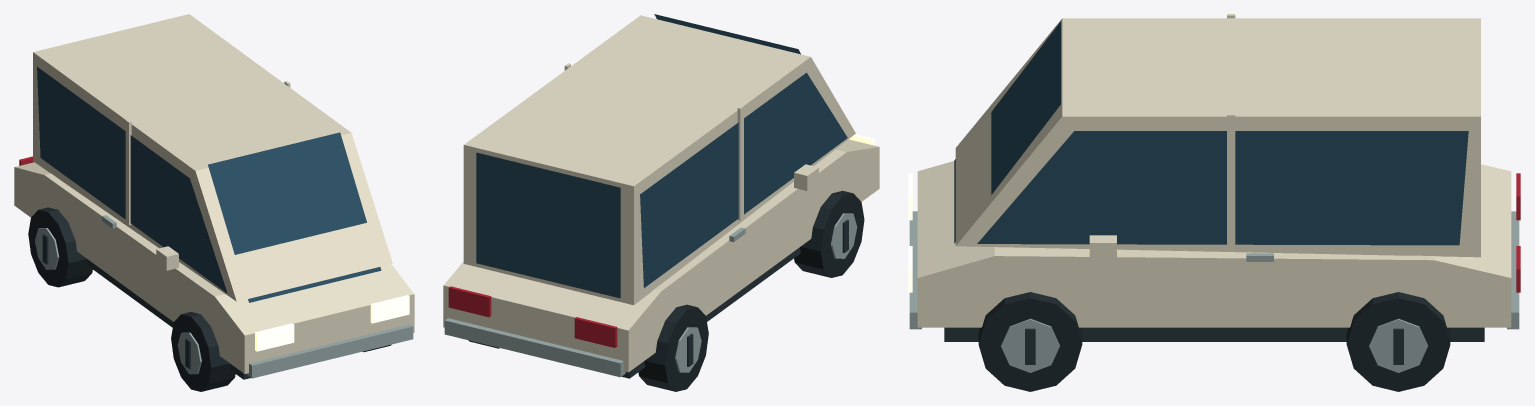
File: car-van.glb
3 renders of one model, left to right at view 1: azimuth 30°, elevation 25°; view 2: azimuth 150°, elevation 25°; view 3: azimuth 270°, elevation 25°, orthographic. The views are drawn at different scales.
Visible parts, largest first — view 1: CivilianRoot_cream, CivilianRoot_glass, CivilianRoot_steel, WheelRearLeft_rubber, WheelFrontLeft_rubber, CivilianRoot_lamp, CivilianRoot_dark, WheelFrontLeft_steel, WheelRearLeft_steel; view 2: CivilianRoot_cream, CivilianRoot_glass, CivilianRoot_steel, WheelRearLeft_rubber, WheelFrontLeft_rubber, CivilianRoot_red, CivilianRoot_dark, WheelRearLeft_steel, WheelFrontLeft_steel; view 3: CivilianRoot_cream, CivilianRoot_glass, WheelFrontRight_rubber, WheelRearRight_rubber, CivilianRoot_dark, CivilianRoot_steel, WheelFrontRight_steel, WheelRearRight_steel.
Part boxes in pixels (box(x1,y1,x2,y2)): CivilianRoot_cream: box(14, 14, 414, 373); CivilianRoot_glass: box(37, 66, 381, 302); CivilianRoot_steel: box(102, 215, 413, 378); WheelRearLeft_rubber: box(28, 207, 92, 287); WheelFrontLeft_rubber: box(171, 312, 235, 391); CivilianRoot_lamp: box(255, 295, 409, 351); CivilianRoot_dark: box(86, 259, 250, 379); WheelFrontLeft_steel: box(177, 332, 201, 374); WheelRearLeft_steel: box(35, 228, 59, 269); CivilianRoot_cream: box(443, 15, 879, 372); CivilianRoot_glass: box(476, 14, 847, 298); CivilianRoot_steel: box(444, 227, 745, 377); WheelRearLeft_rubber: box(638, 304, 708, 391); WheelFrontLeft_rubber: box(794, 190, 864, 277); CivilianRoot_red: box(448, 286, 617, 347); CivilianRoot_dark: box(621, 247, 800, 378); WheelRearLeft_steel: box(675, 327, 701, 372); WheelFrontLeft_steel: box(830, 213, 857, 258); CivilianRoot_cream: box(917, 14, 1511, 327); CivilianRoot_glass: box(954, 21, 1468, 245); WheelFrontRight_rubber: box(978, 292, 1082, 391); WheelRearRight_rubber: box(1346, 292, 1450, 391); CivilianRoot_dark: box(944, 327, 1484, 341); CivilianRoot_steel: box(909, 211, 1519, 329); WheelFrontRight_steel: box(1001, 318, 1059, 372); WheelRearRight_steel: box(1369, 318, 1427, 372).
Size of the model in its own units: 1.93 by 1.96 by 4.02.
